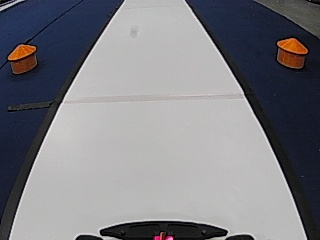granary: (275, 35, 308, 69), (6, 43, 38, 75)
